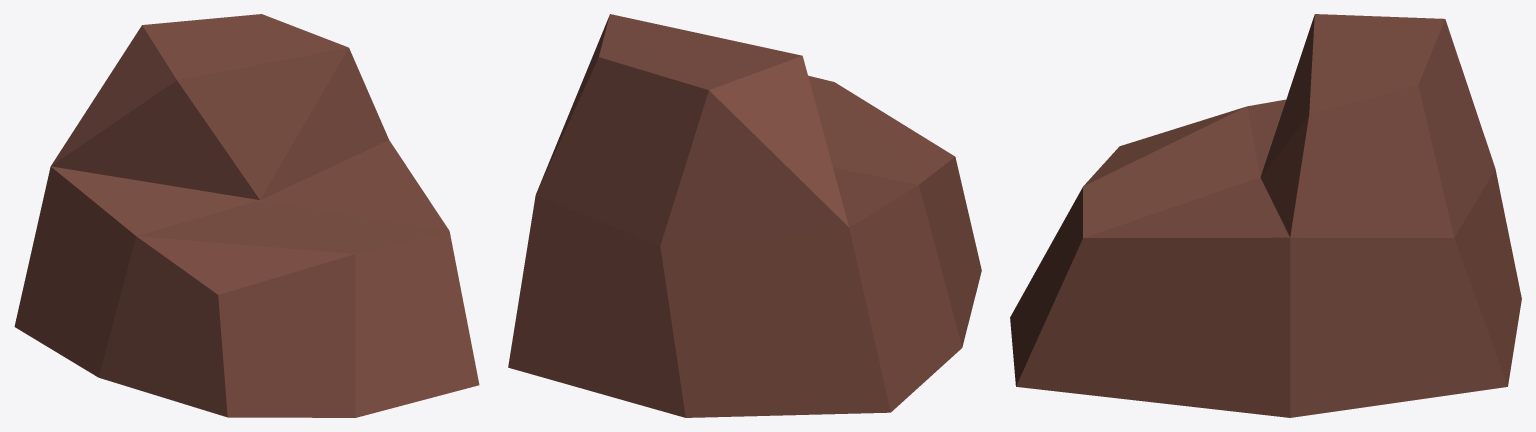
The model's file is FlatRock-B09.fbx.
3 views of the same model, side by side, from view 1: azimuth 30°, elevation 25°; view 2: azimuth 150°, elevation 25°; view 3: azimuth 270°, elevation 25° (orthographic). The views are drawn at different scales.
Visible parts, largest first — view 1: FlatRock-B09; view 2: FlatRock-B09; view 3: FlatRock-B09.
Part boxes in pixels (x1=…): FlatRock-B09: x1=14, y1=14, x2=479, y2=417; FlatRock-B09: x1=508, y1=14, x2=981, y2=417; FlatRock-B09: x1=1010, y1=14, x2=1521, y2=417.
Size of the model in its own units: 146 by 104 by 167.
